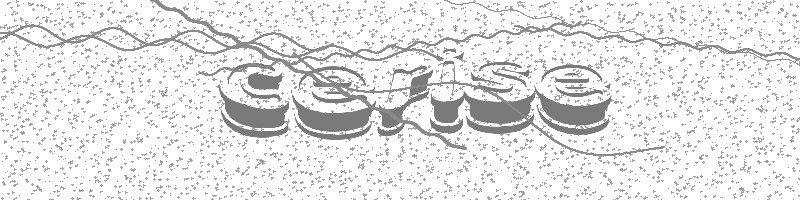c: (217, 61, 292, 139)
e: (291, 62, 374, 140), (537, 64, 609, 134)
i: (430, 41, 465, 136)
r: (377, 61, 431, 134)
s: (465, 59, 537, 137)
